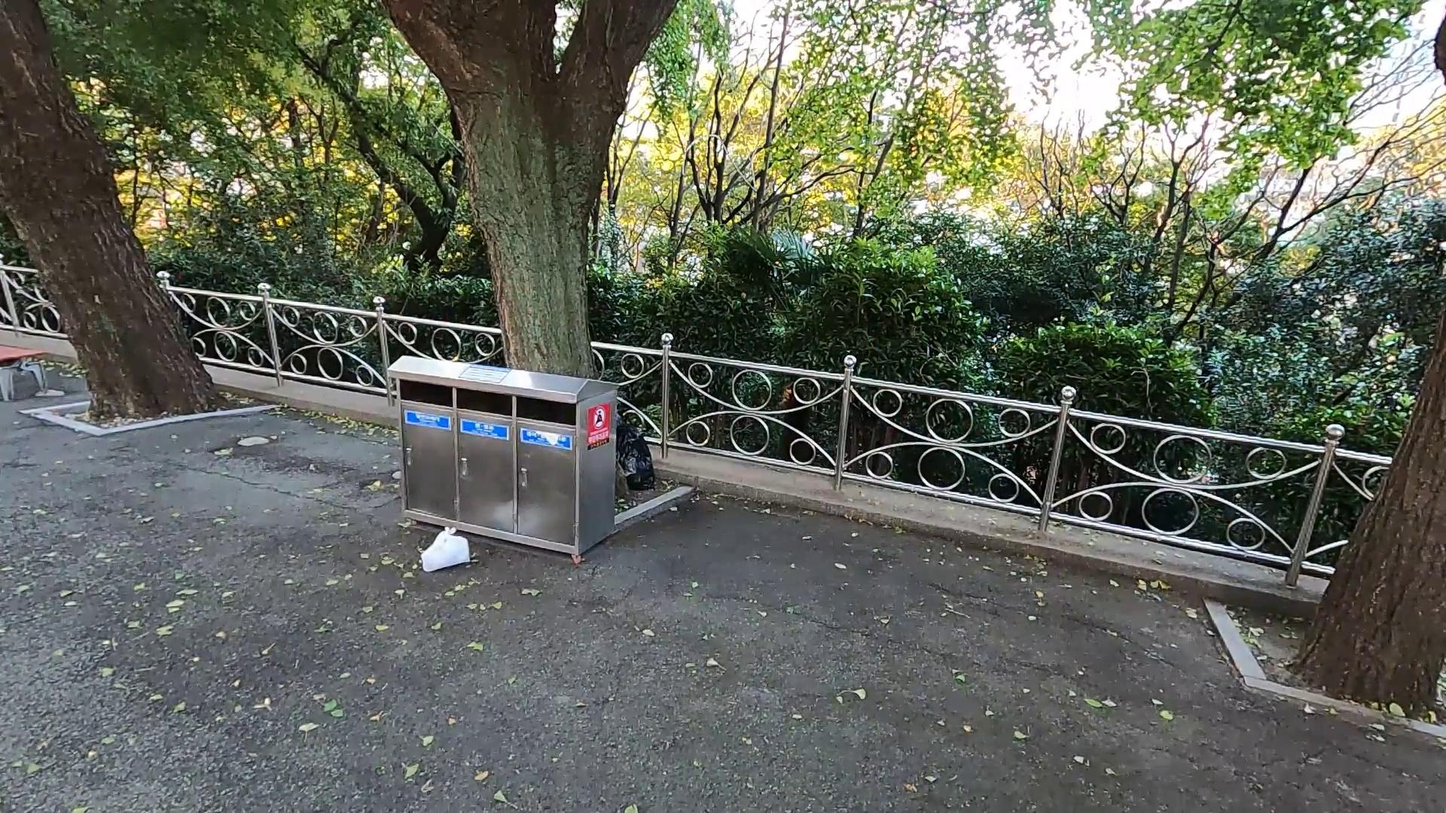trash: (618, 409, 665, 495), (420, 523, 473, 574)
